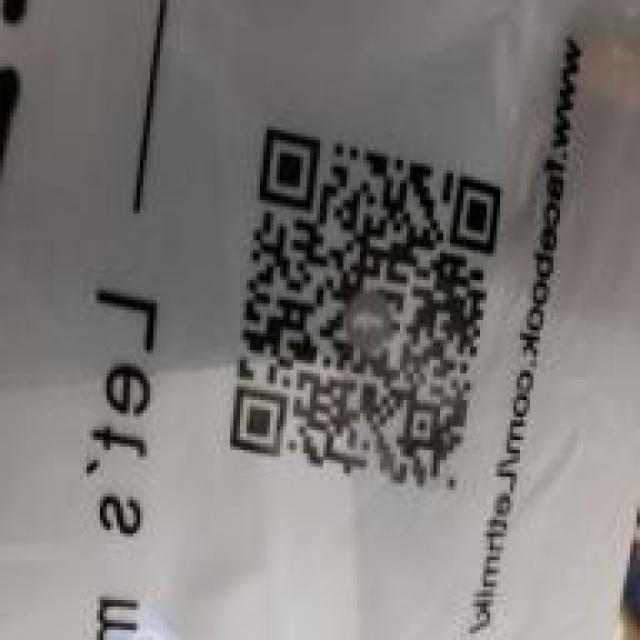qr_code: (229, 127, 502, 489)
